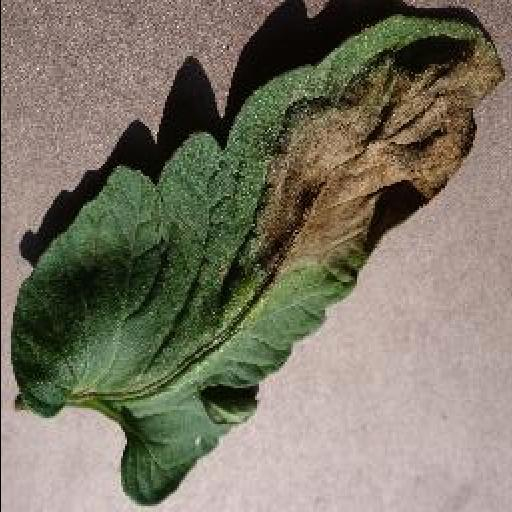disease_tomato: (10, 10, 510, 512)
